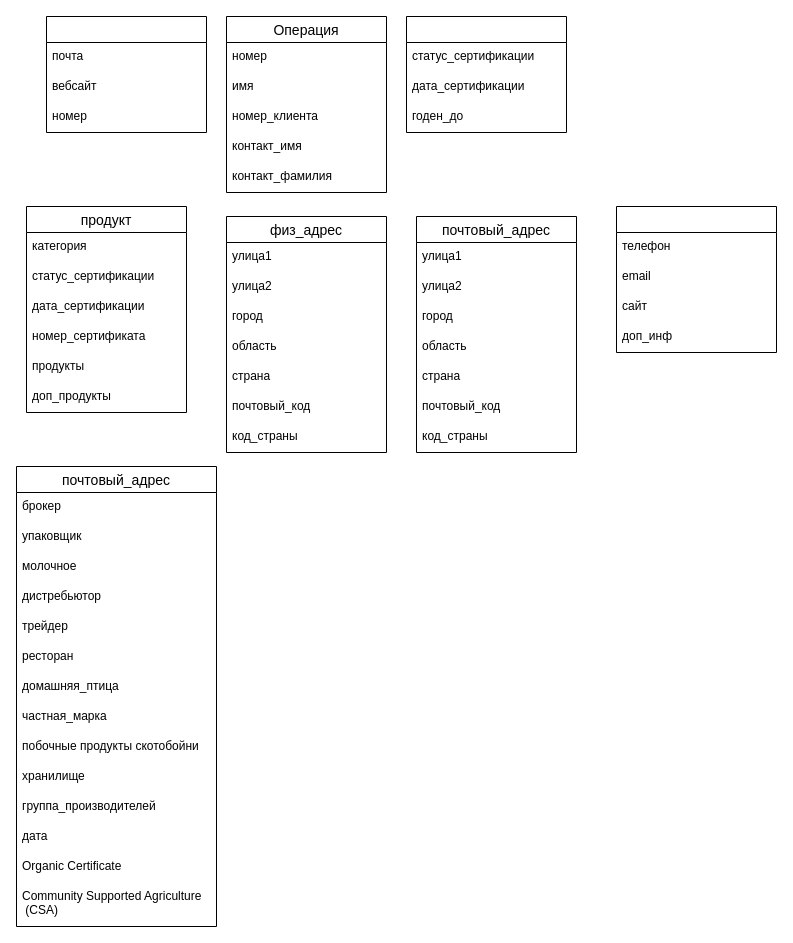
This 793x943 diagram has some shape labels left out. The shapes that lost their labels are listed below. From the top down, each one's box as (x1, y1, x2, y2) in pixels, then its label:
(46, 16, 206, 132): Сертификатор
(406, 16, 566, 132): Статус_опериции
(616, 206, 776, 352): контакты
